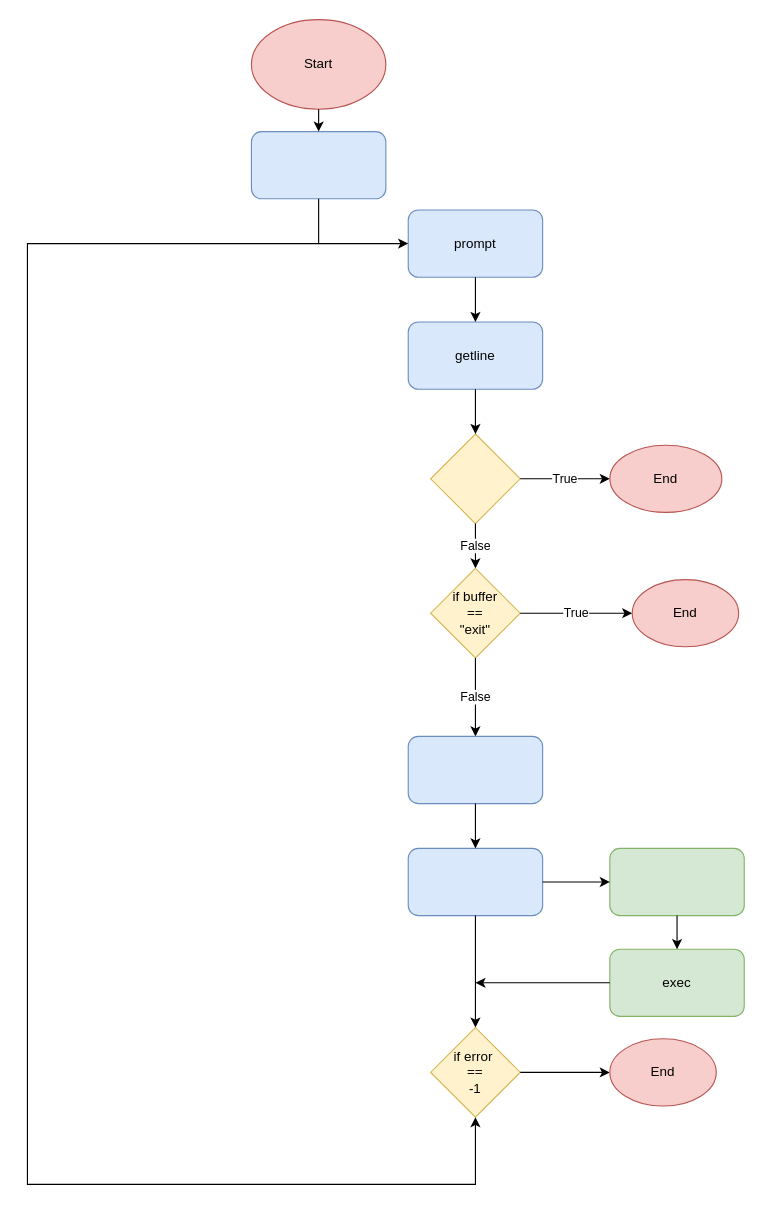
This 764x1213 diagram has some shape labels left out. The box of each missing label's shape, as (x1, y1, x2, y2) in pixels:
error = execute: (407, 847, 543, 916)
getfunc: (407, 735, 543, 804)
if feof(stdin): (430, 433, 520, 524)
main: (250, 130, 386, 199)
split_line: (609, 847, 744, 916)
